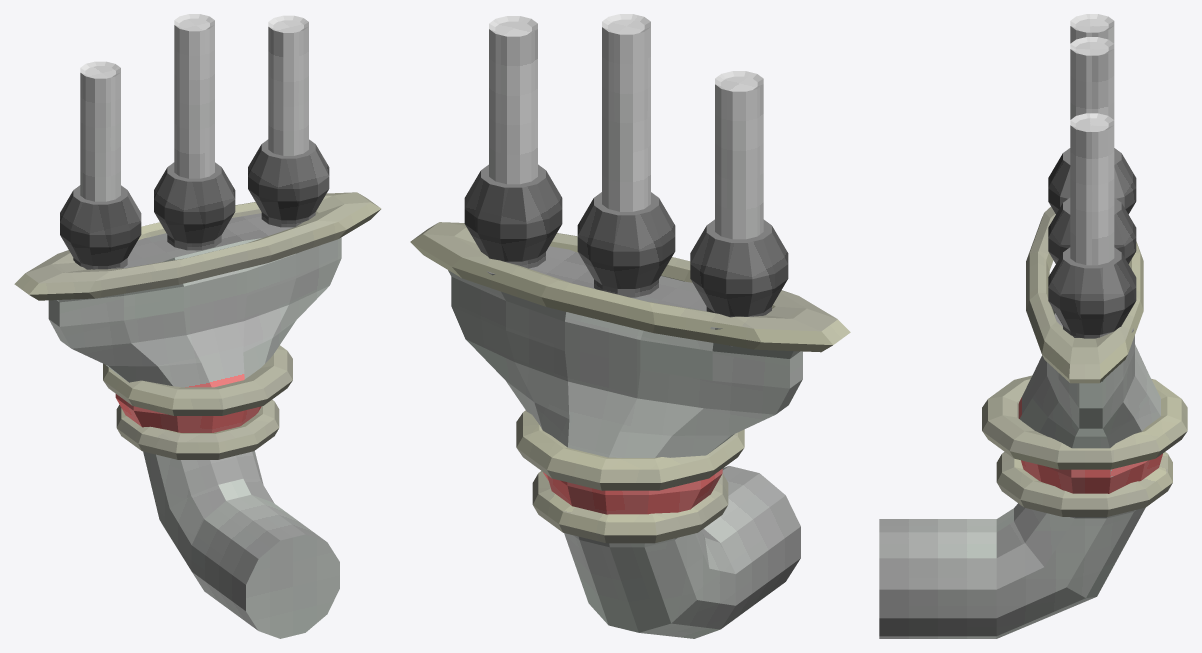
Rendered from candle.fbx.
3 views of the same model, side by side, from view 1: azimuth 30°, elevation 25°; view 2: azimuth 150°, elevation 25°; view 3: azimuth 270°, elevation 25° (orthographic). The views are drawn at different scales.
Parts seen in each view (by area): view 1: main, torus, candle, candle_2, candle_1; view 2: main, torus, candle, candle_2, candle_1; view 3: main, torus, candle_2, candle, candle_1.
Boxes of the visible parts, bbox=[...] form: main: bbox=[48, 213, 341, 638]; torus: bbox=[14, 192, 381, 459]; candle: bbox=[154, 14, 235, 250]; candle_2: bbox=[248, 15, 329, 227]; candle_1: bbox=[60, 61, 141, 269]; main: bbox=[448, 246, 802, 638]; torus: bbox=[410, 222, 850, 543]; candle: bbox=[577, 14, 675, 297]; candle_2: bbox=[464, 16, 562, 268]; candle_1: bbox=[690, 71, 788, 346]; main: bbox=[879, 308, 1162, 638]; torus: bbox=[982, 206, 1187, 516]; candle_2: bbox=[1048, 113, 1136, 338]; candle: bbox=[1048, 37, 1136, 263]; candle_1: bbox=[1048, 14, 1136, 214].
Size of the model in its own units: 93.75 by 138 by 65.62.
Materials: 3 (3 with a texture image).
